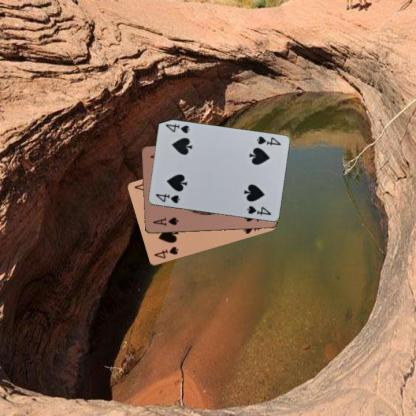4s: (151, 244, 180, 260), (152, 191, 181, 205), (254, 134, 282, 146)
As: (150, 215, 179, 227)
